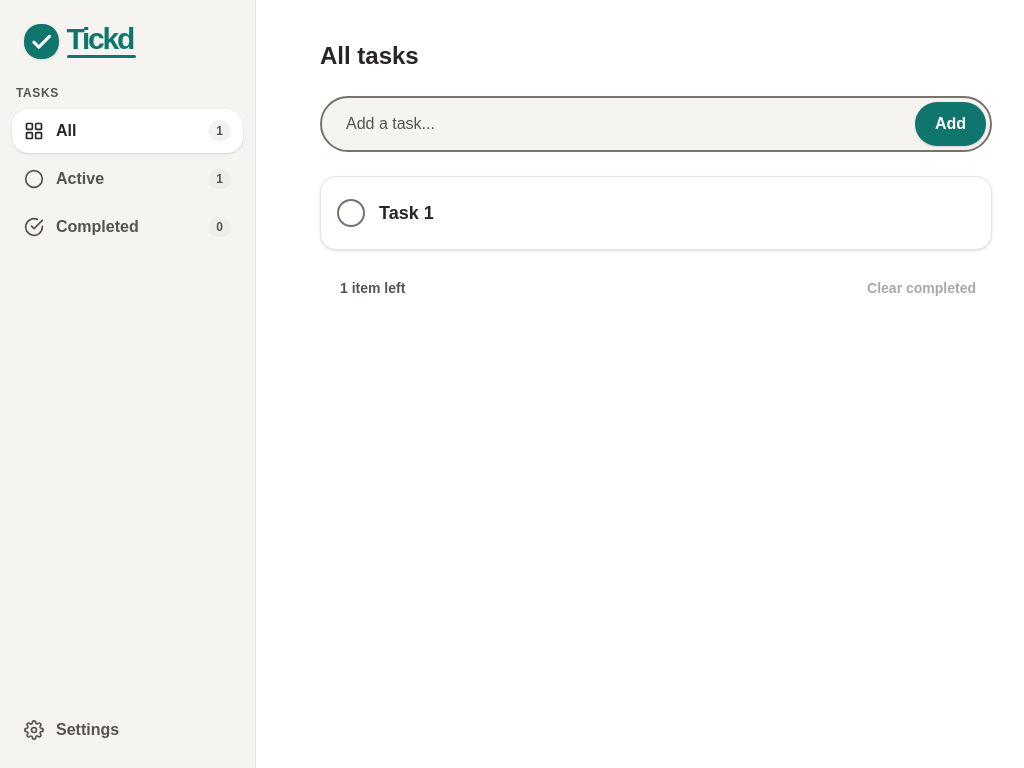
Test: TaskList title editing › saves a trimmed title when the edit field blurs
Double-click the button "Task 1".
double_click(406, 213)  # box x1=379 y1=191 x2=929 y2=235
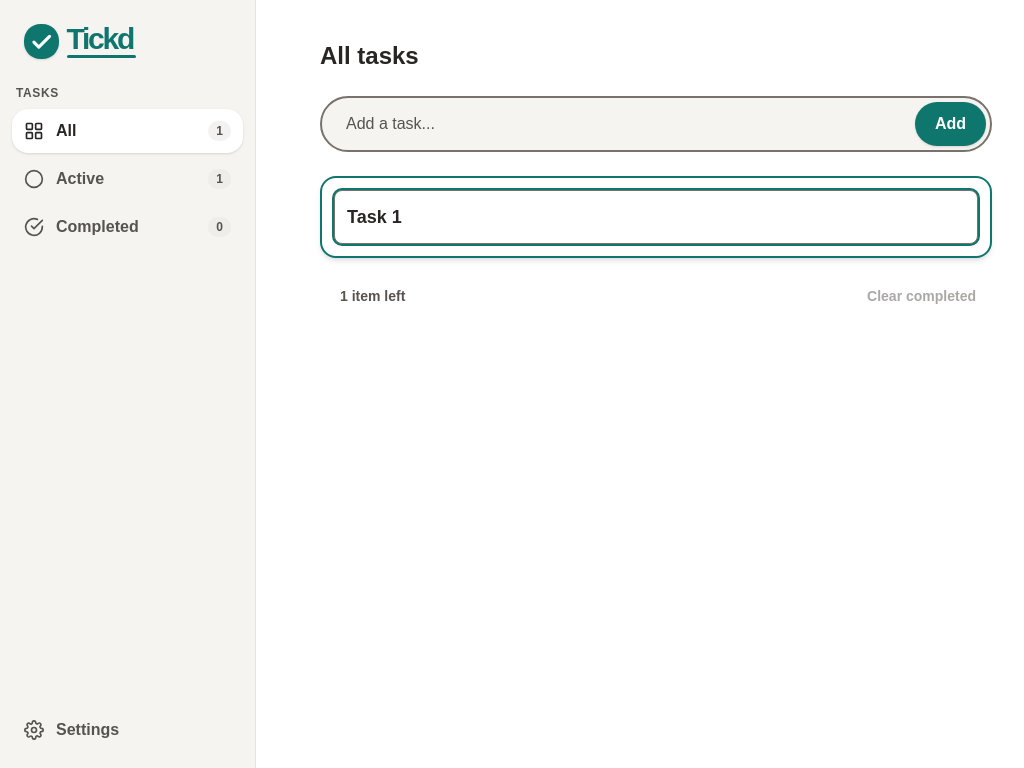
Replace the text in the field named "Edit task" with "  Renamed task  " at (656, 217), box x1=334 y1=190 x2=978 y2=244
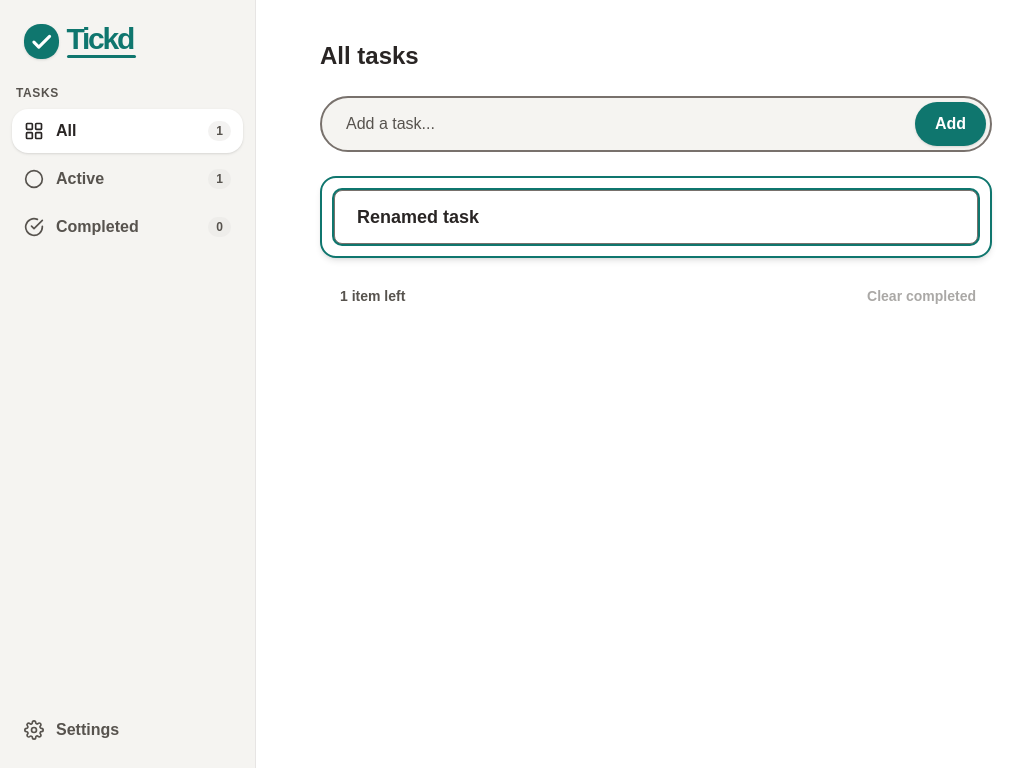
Click the heading "All tasks".
click(369, 56)  # box x1=320 y1=40 x2=419 y2=72
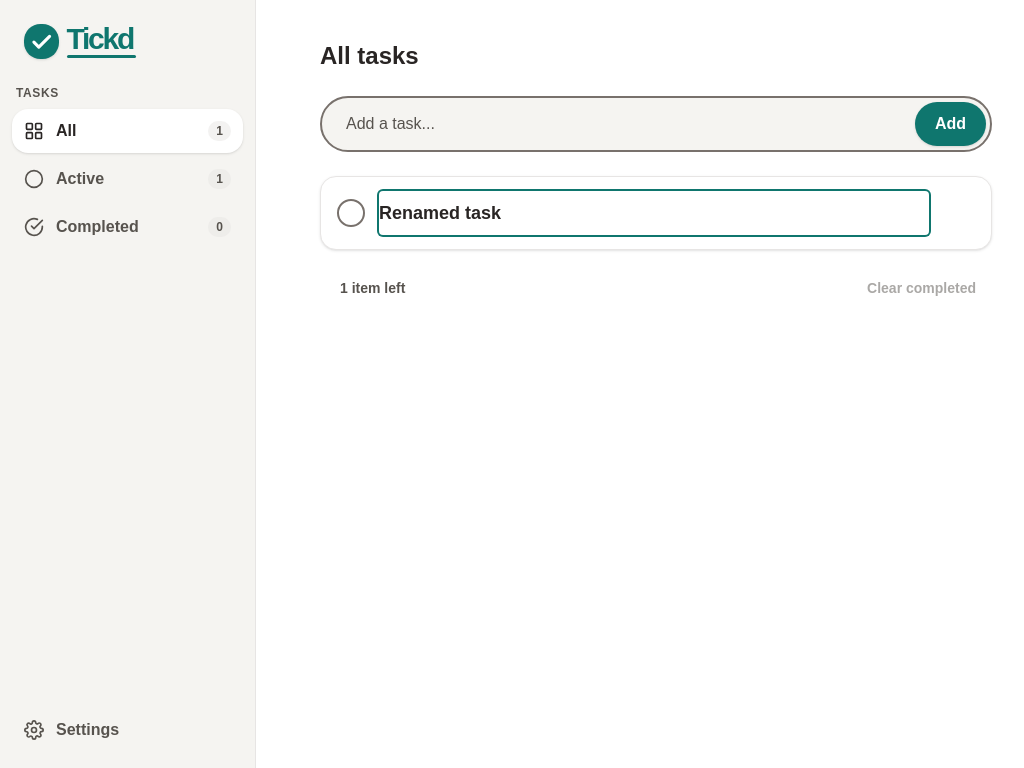
Expected: the field labelled "Edit task" is not shown
Expected: the button "Renamed task" reads "Renamed task", x1=379 y1=191 x2=929 y2=235
